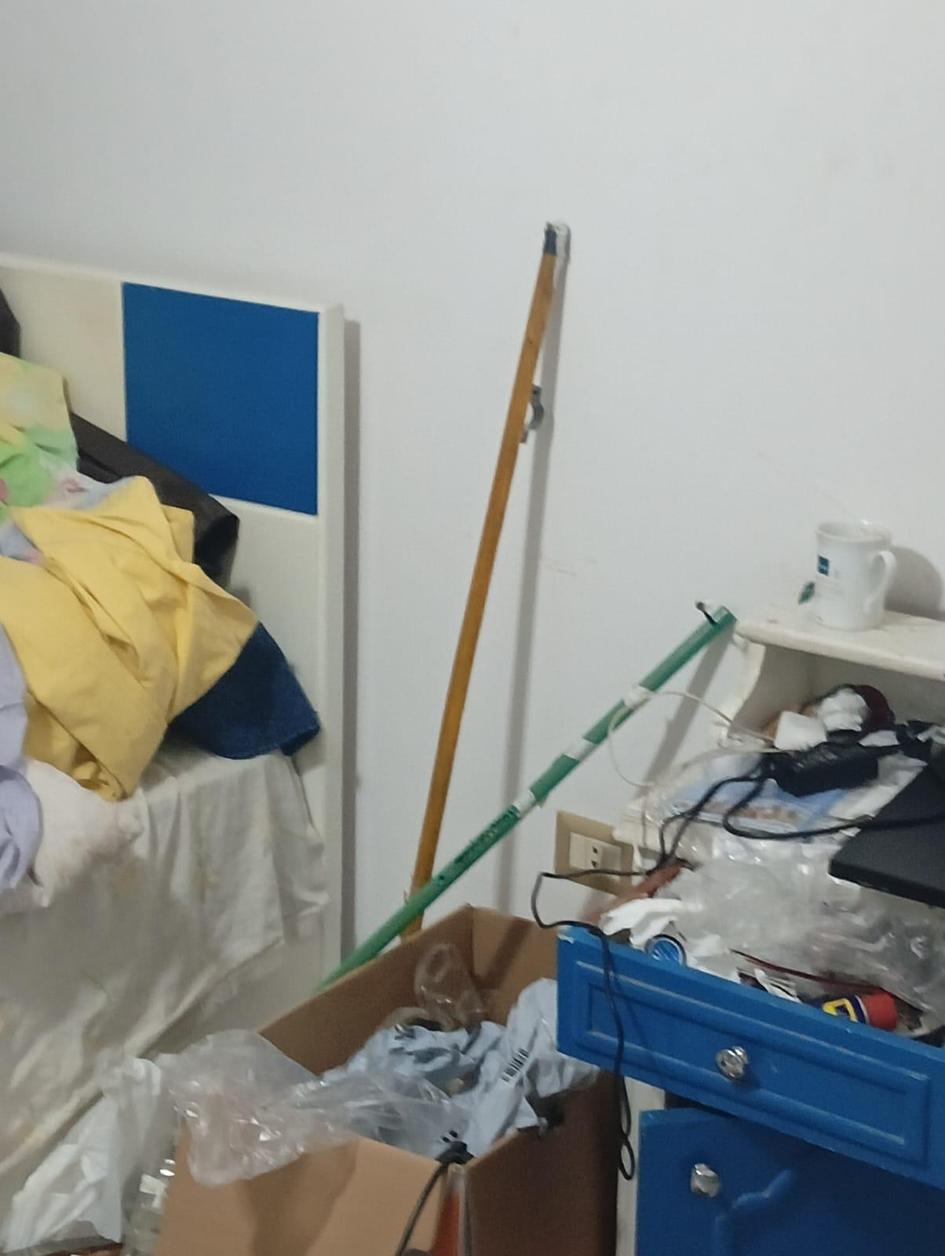cup: (813, 522, 896, 630)
